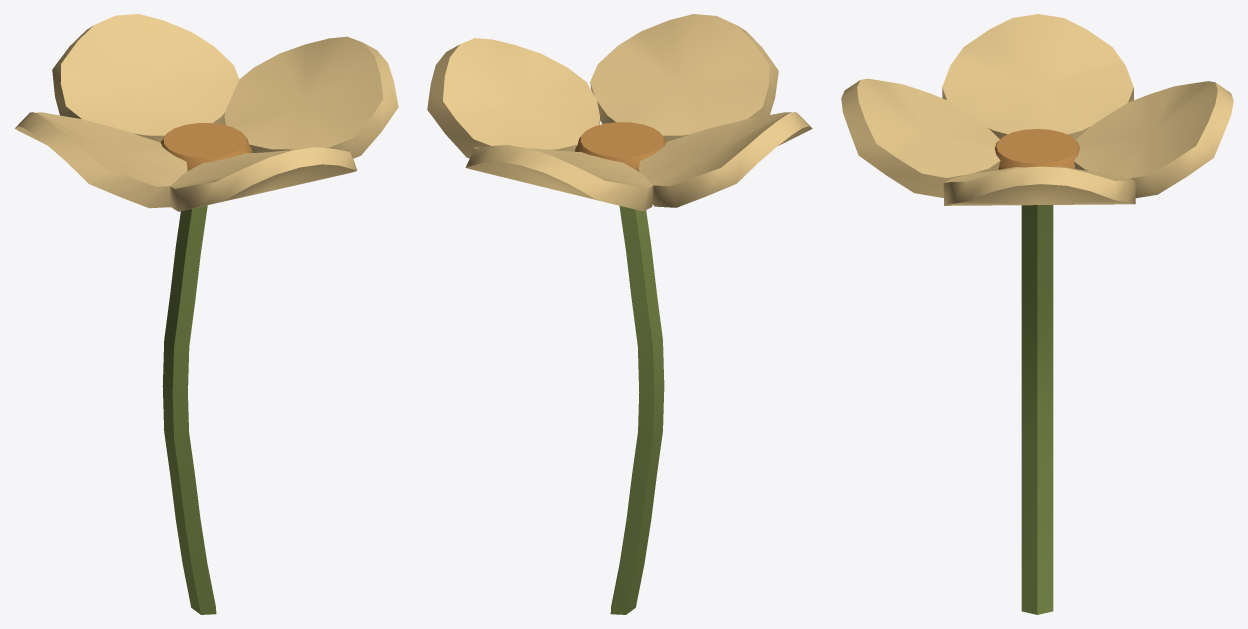
Rendered from flor1.fbx.
3 renders of one model, left to right at view 1: azimuth 30°, elevation 25°; view 2: azimuth 150°, elevation 25°; view 3: azimuth 270°, elevation 25°, orthographic.
Parts seen in each view (by area): view 1: petala1, petala2, pCylinder1, petala4, petala3, centro; view 2: petala3, petala2, pCylinder1, petala4, petala1, centro; view 3: petala4, pCylinder1, petala3, petala1, petala2, centro.
Boxes of the visible parts, x1=… form: petala1: x1=52, y1=14, x2=239, y2=142; petala2: x1=224, y1=36, x2=398, y2=158; pCylinder1: x1=162, y1=205, x2=216, y2=614; petala4: x1=14, y1=112, x2=187, y2=208; petala3: x1=170, y1=147, x2=357, y2=211; centro: x1=160, y1=123, x2=252, y2=170; petala3: x1=590, y1=14, x2=778, y2=141; petala2: x1=427, y1=38, x2=599, y2=158; pCylinder1: x1=610, y1=205, x2=664, y2=614; petala4: x1=639, y1=112, x2=812, y2=207; petala1: x1=465, y1=145, x2=653, y2=211; centro: x1=574, y1=122, x2=666, y2=171; petala4: x1=942, y1=14, x2=1133, y2=139; pCylinder1: x1=1021, y1=205, x2=1053, y2=614; petala3: x1=841, y1=78, x2=1000, y2=197; petala1: x1=1073, y1=81, x2=1233, y2=198; petala2: x1=943, y1=166, x2=1135, y2=205; centro: x1=995, y1=129, x2=1079, y2=169.
Size of the model in its own units: 4.73 by 6.92 by 4.73.
